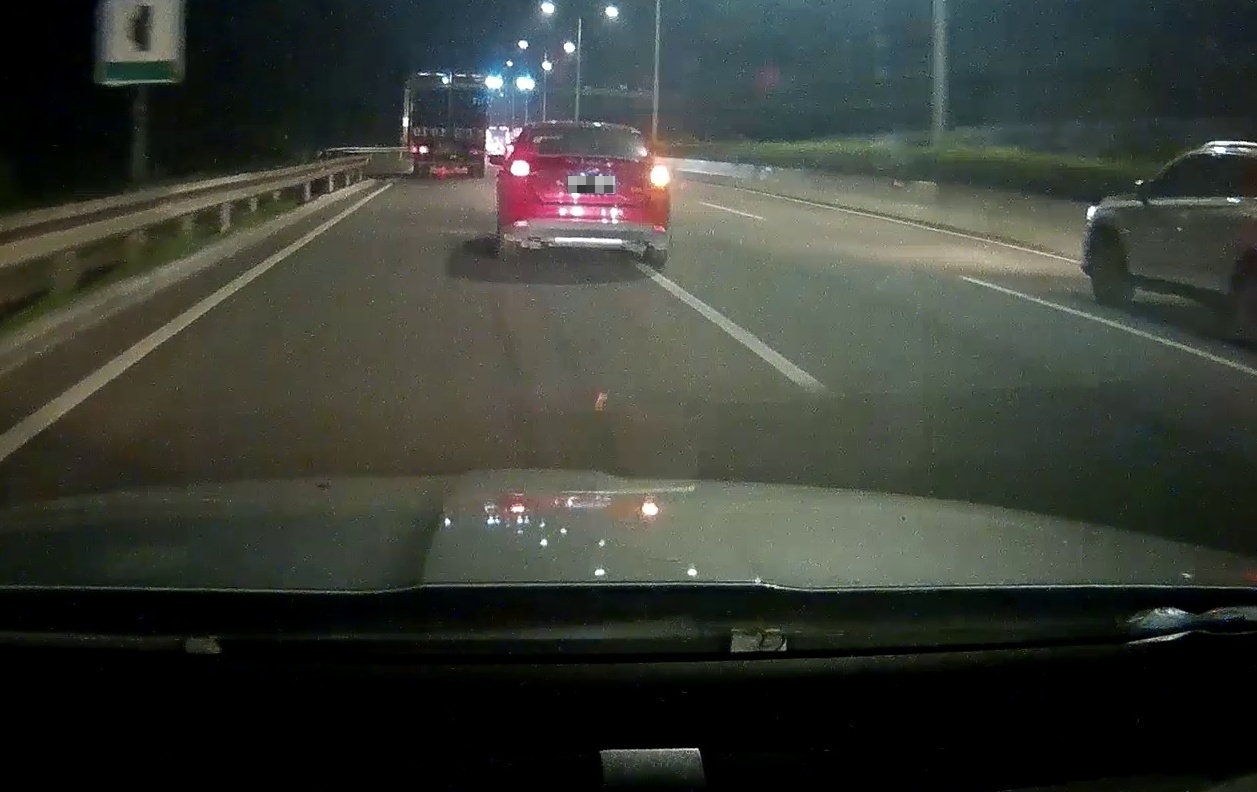L_light: (509, 159, 531, 177), (412, 144, 428, 154)
R_light: (649, 165, 670, 185), (470, 145, 486, 153)
T_light: (569, 126, 598, 132), (442, 83, 456, 86)
night-left: (401, 69, 488, 178)
night-right: (502, 120, 671, 267)
plate_1: (568, 176, 615, 193)
